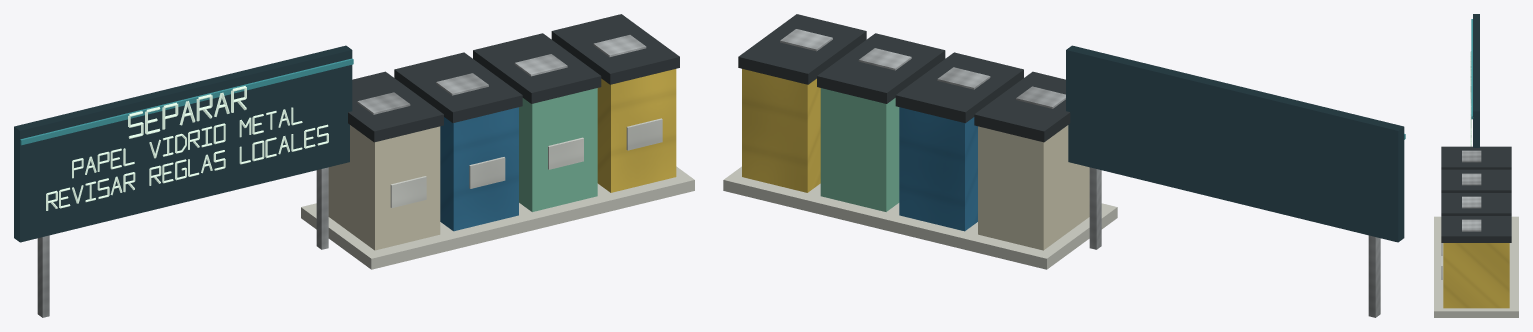
Rendered from CYCLE-005.glb.
3 views of the same model, side by side, from view 1: azimuth 30°, elevation 25°; view 2: azimuth 150°, elevation 25°; view 3: azimuth 270°, elevation 25° (orthographic). The views are drawn at different scales.
Visible parts, largest first — view 1: CYCLE-005; view 2: CYCLE-005; view 3: CYCLE-005.
Boxes of the visible parts, x1,y1,x2,y2 form: CYCLE-005: (14,14,694,317); CYCLE-005: (723,14,1405,317); CYCLE-005: (1434,14,1518,317).
Bounding box in the file's own units: 7.35 × 2.11 × 1.4.
11 materials, 4 textured.
